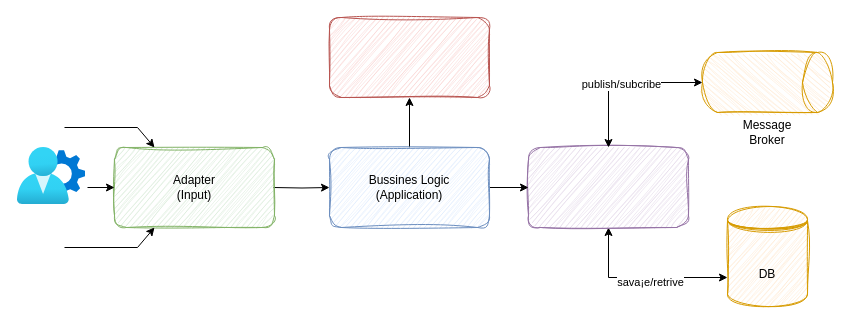
The diagram is 850 pixels wide and 325 high, and some of its shapes have lost their labels. The shapes that lost their labels are listed below. From the top down, each one's centre as x and y in pixels, then its label:
the point at 409,57: Domain
the point at 608,187: Adapter (Output)
